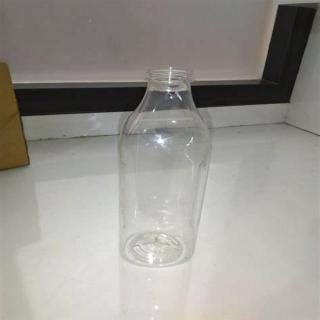Plastic-bottle: (114, 63, 215, 273)
